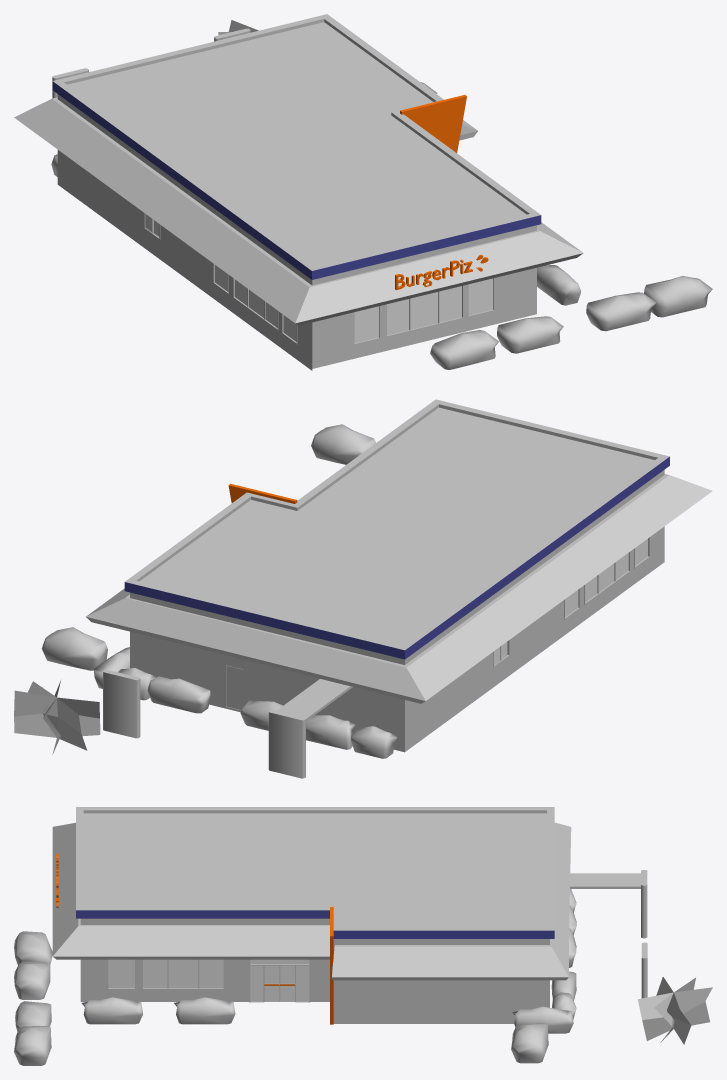
File: burger_drive.fbx
3 renders of one model, top to bottom at view 1: azimuth 30°, elevation 25°; view 2: azimuth 150°, elevation 25°; view 3: azimuth 270°, elevation 25°, orthographic. The views are drawn at different scales.
Parts seen in each view (by area): view 1: BurgerPiz, RooftilesMetal, Windows.002, L, Plants.003, Plants.002, Plants.005, Plants.004, Windows, Plants, BurgerPiz_L.001; view 2: BurgerPiz, RooftilesMetal, plants_flowers.012, Menu.001, Menu.002, Plants.006, Plants.003, Plants.008, Ceiling_A, Plants.010, Windows, Plants.011 (+3 smaller); view 3: BurgerPiz, RooftilesMetal, Windows.001, plants_flowers.012, Plants, Plants.001, Windows.003, Plants.006, Plants.003, Plants.004, Plants.007, Ceiling_A (+8 smaller).
Boxes of the visible parts, box(x1,y1,x2,y2) form: BurgerPiz: box(52, 14, 541, 370); RooftilesMetal: box(14, 97, 583, 325); Windows.002: box(354, 278, 492, 343); L: box(400, 95, 466, 152); Plants.003: box(644, 275, 712, 317); Plants.002: box(586, 292, 656, 331); Plants.005: box(430, 330, 499, 369); Plants.004: box(497, 316, 563, 353); Windows: box(215, 265, 296, 341); Plants: box(537, 265, 580, 305); BurgerPiz_L.001: box(395, 254, 488, 290); BurgerPiz: box(124, 399, 669, 752); RooftilesMetal: box(86, 474, 712, 703); plants_flowers.012: box(14, 680, 100, 754); Menu.001: box(103, 669, 140, 738); Menu.002: box(268, 710, 305, 778); Plants.006: box(41, 627, 107, 670); Plants.003: box(311, 424, 375, 464); Plants.008: box(147, 676, 210, 713); Ceiling_A: box(276, 679, 352, 721); Plants.010: box(306, 715, 355, 749); Windows: box(565, 539, 647, 616); Plants.011: box(351, 726, 397, 758); BurgerPiz: box(76, 807, 554, 1023); RooftilesMetal: box(52, 822, 571, 980); Windows.001: box(108, 959, 223, 988); plants_flowers.012: box(637, 977, 712, 1044); Plants: box(81, 997, 142, 1024); Plants.001: box(174, 997, 235, 1024); Windows.003: box(250, 959, 309, 1001); Plants.006: box(511, 1023, 548, 1063); Plants.003: box(14, 1026, 51, 1065); Plants.004: box(14, 961, 50, 999); Plants.007: box(512, 1006, 573, 1033); Ceiling_A: box(570, 873, 640, 888).
Bounding box in the file's own units: 26.75 × 6.92 × 43.86.
